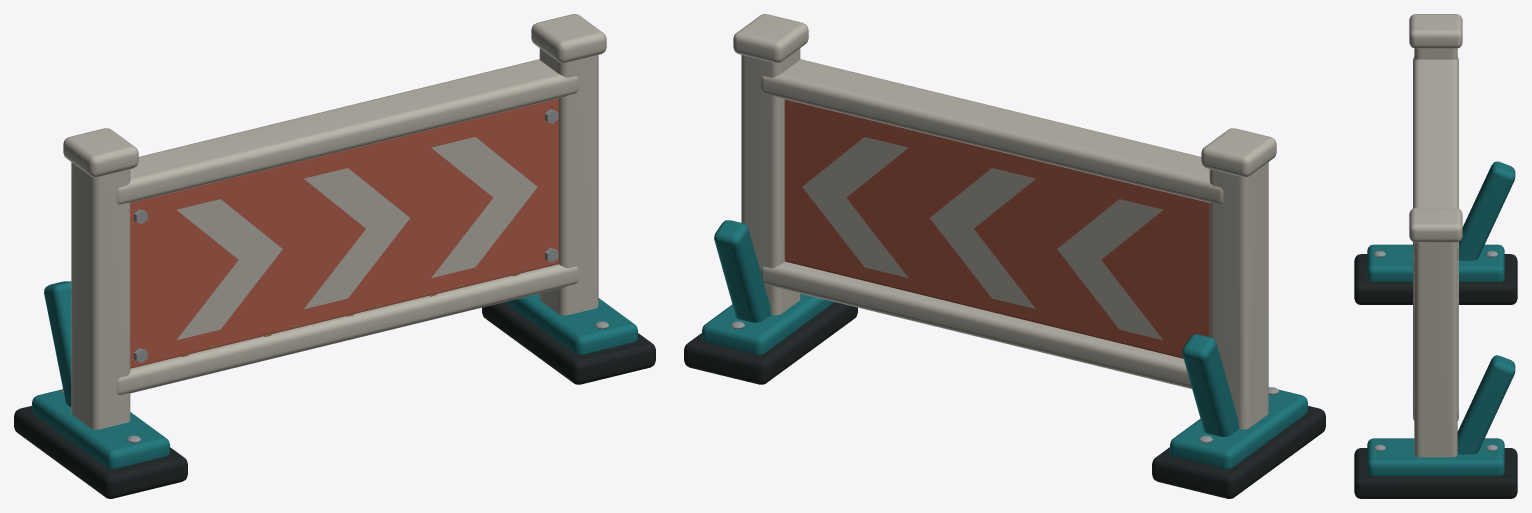
File: barricade.glb
The picture shows the model from 3 angles, left to right: view 1: azimuth 30°, elevation 25°; view 2: azimuth 150°, elevation 25°; view 3: azimuth 270°, elevation 25°; orthographic projection. The views are drawn at different scales.
Visible parts, largest first — view 1: CoastalBarricade; view 2: CoastalBarricade; view 3: CoastalBarricade.
Boxes of the visible parts, x1,y1,x2,y2 form: CoastalBarricade: [14, 14, 655, 498]; CoastalBarricade: [684, 14, 1325, 498]; CoastalBarricade: [1354, 14, 1517, 498].
Size of the model in its own units: 2.12 by 1.16 by 0.64.
